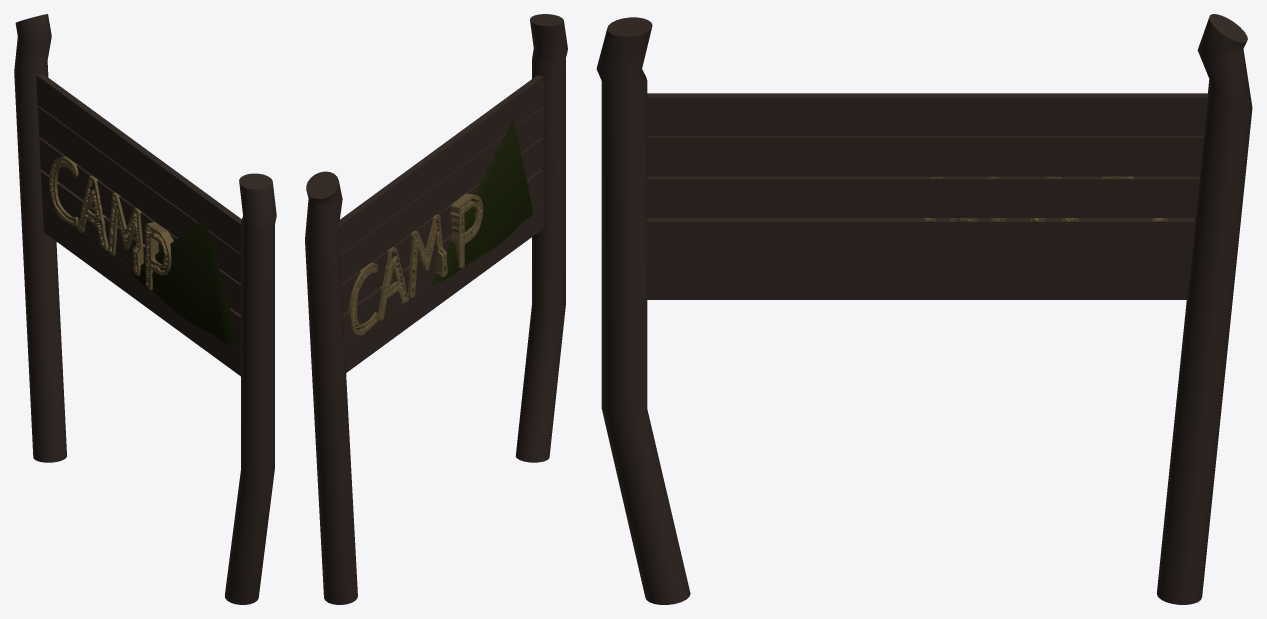
The model's file is sign.fbx.
3 views of the same model, side by side, from view 1: azimuth 30°, elevation 25°; view 2: azimuth 150°, elevation 25°; view 3: azimuth 270°, elevation 25° (orthographic). The views are drawn at different scales.
Visible parts, largest first — view 1: pCylinder1, pCylinder2, pCube4, pCone1, pCube1, pCube5, typeMesh1, pCube2, pCube3; view 2: pCylinder2, pCylinder1, pCube4, pCube1, pCone1, pCube5, typeMesh1, pCube2, pCube3; view 3: pCylinder1, pCylinder2, pCube4, pCube3, pCube2, pCube1, pCube5.
Part boxes in pixels (x1,y1,x2,y2): pCylinder1: [225, 173, 276, 604]; pCylinder2: [14, 14, 66, 462]; pCube4: [36, 73, 241, 253]; pCone1: [131, 219, 235, 345]; pCube1: [37, 106, 240, 283]; pCube5: [42, 202, 240, 376]; typeMesh1: [49, 156, 173, 290]; pCube2: [39, 138, 240, 314]; pCube3: [41, 171, 240, 346]; pCylinder2: [305, 171, 357, 604]; pCylinder1: [515, 14, 567, 462]; pCube4: [338, 75, 543, 254]; pCube1: [340, 106, 543, 283]; pCone1: [431, 119, 532, 285]; pCube5: [344, 199, 543, 372]; typeMesh1: [346, 193, 483, 335]; pCube2: [341, 137, 543, 313]; pCube3: [343, 169, 543, 344]; pCylinder1: [596, 17, 690, 604]; pCylinder2: [1156, 14, 1252, 604]; pCube4: [646, 93, 1208, 135]; pCube3: [647, 218, 1195, 260]; pCube2: [646, 176, 1199, 217]; pCube1: [646, 136, 1204, 176]; pCube5: [646, 260, 1191, 299].
Bounding box in the file's own units: 1.06 × 14.94 × 15.33.
